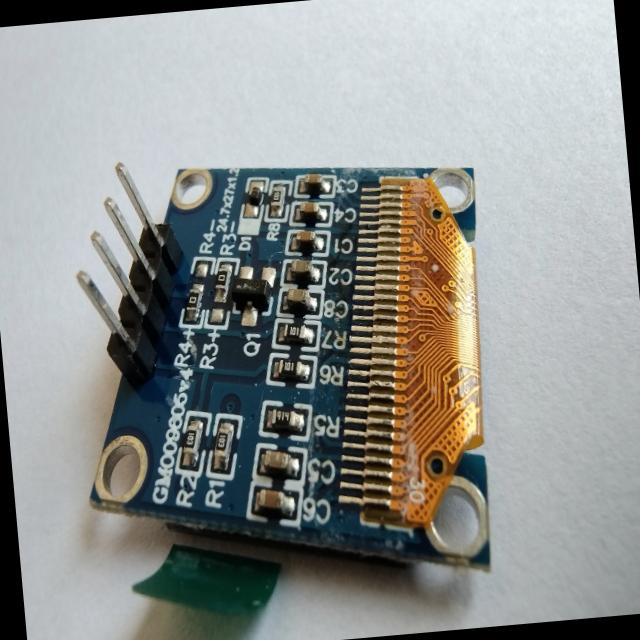oled: (34, 112, 518, 640)
